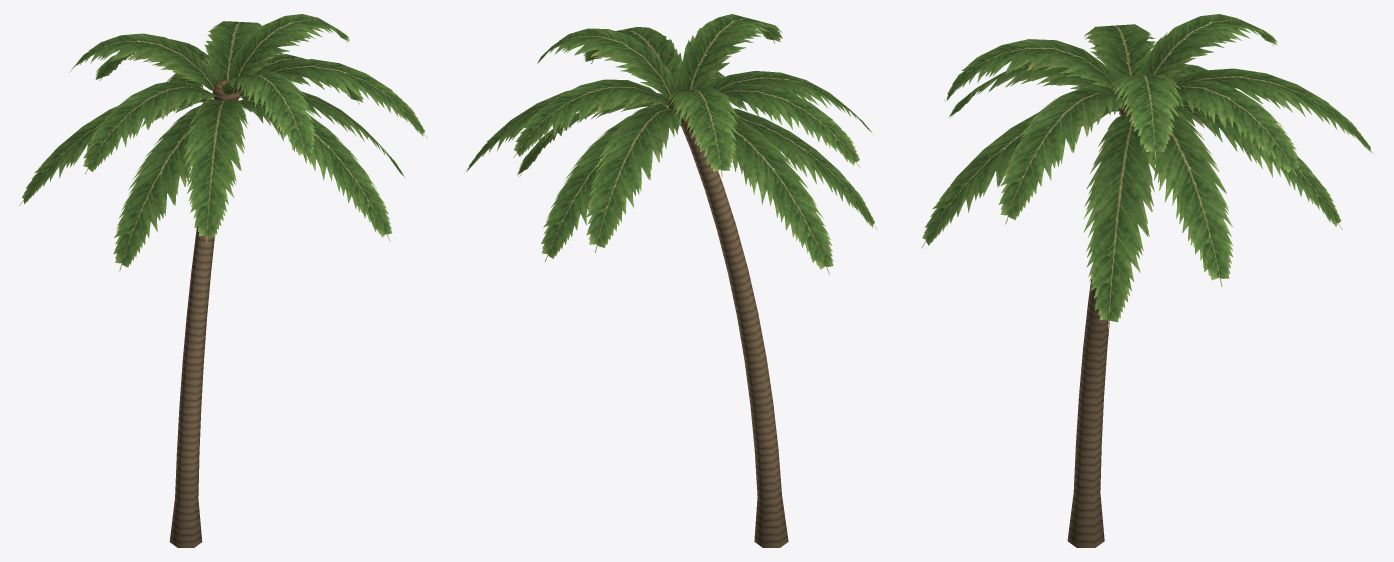
File: coconut_a_lod1.glb
3 views of the same model, side by side, from view 1: azimuth 30°, elevation 25°; view 2: azimuth 150°, elevation 25°; view 3: azimuth 270°, elevation 25° (orthographic). The views are drawn at different scales.
Visible parts, largest first — view 1: leaves, wood; view 2: leaves, wood; view 3: leaves, wood.
Boxes of the visible parts, x1,y1,x2,y2 form: leaves: (19,14,427,271); wood: (169,80,239,547); leaves: (465,14,877,274); wood: (668,90,788,547); leaves: (921,14,1374,328); wood: (1067,95,1131,547).
Size of the model in its own units: 6.84 by 8.55 by 6.8.
2 materials, 2 textured.
